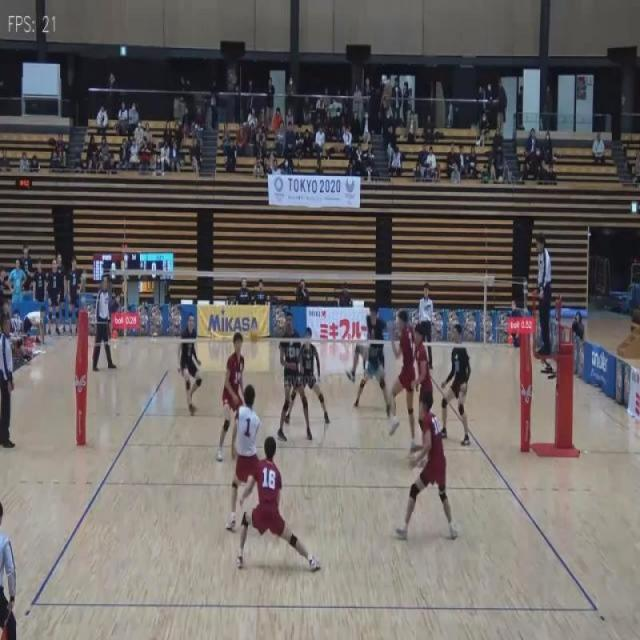volleyball: (248, 326, 260, 343)
